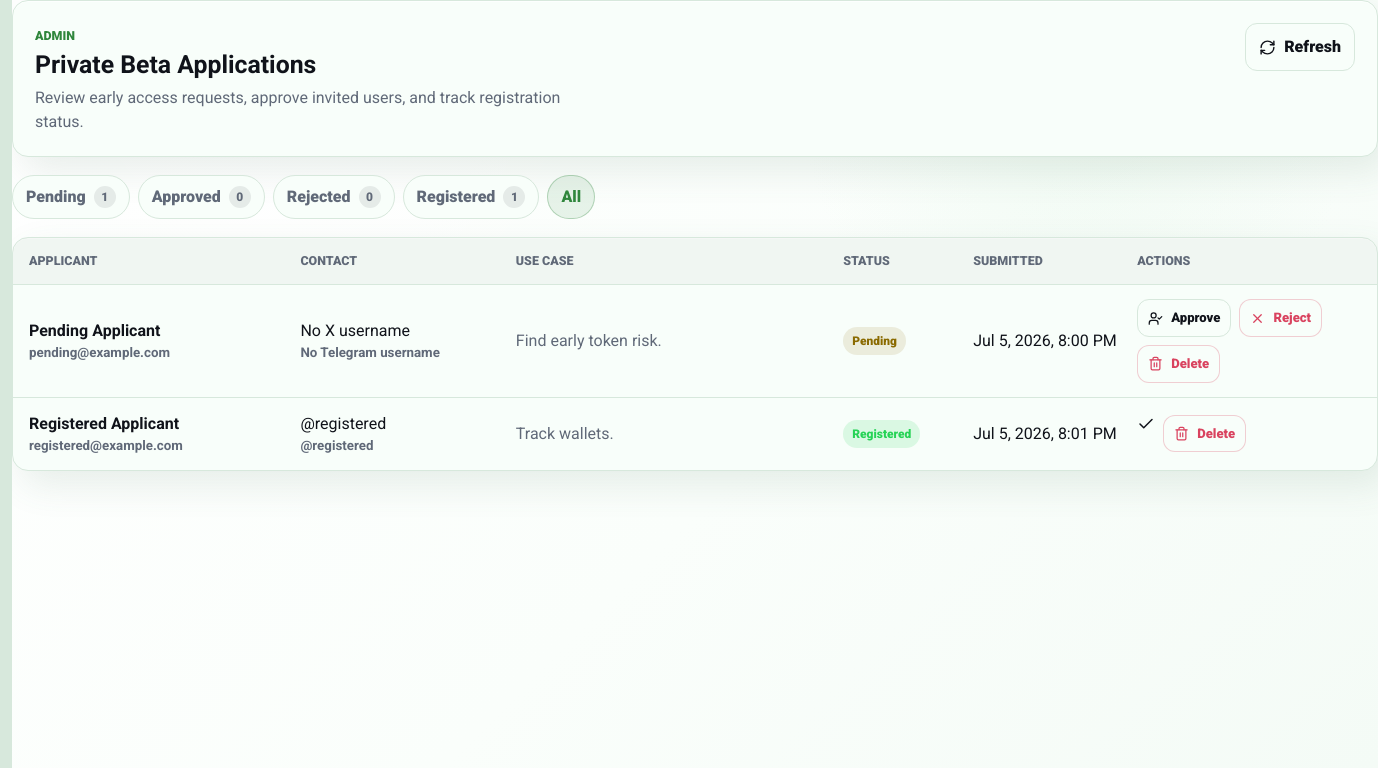
Test: BetaApplicationsAdminPage › lets admins delete an application after confirmation
Check: the text "Pending Applicant" is shown, box [29,321,160,340]
What coordinates should you click on to do the following:
click the button "Delete" next to "Jul 5, 2026, 8:00 PM"
I would click on:
 (1179, 364)
Its box is [1137,345,1220,383].
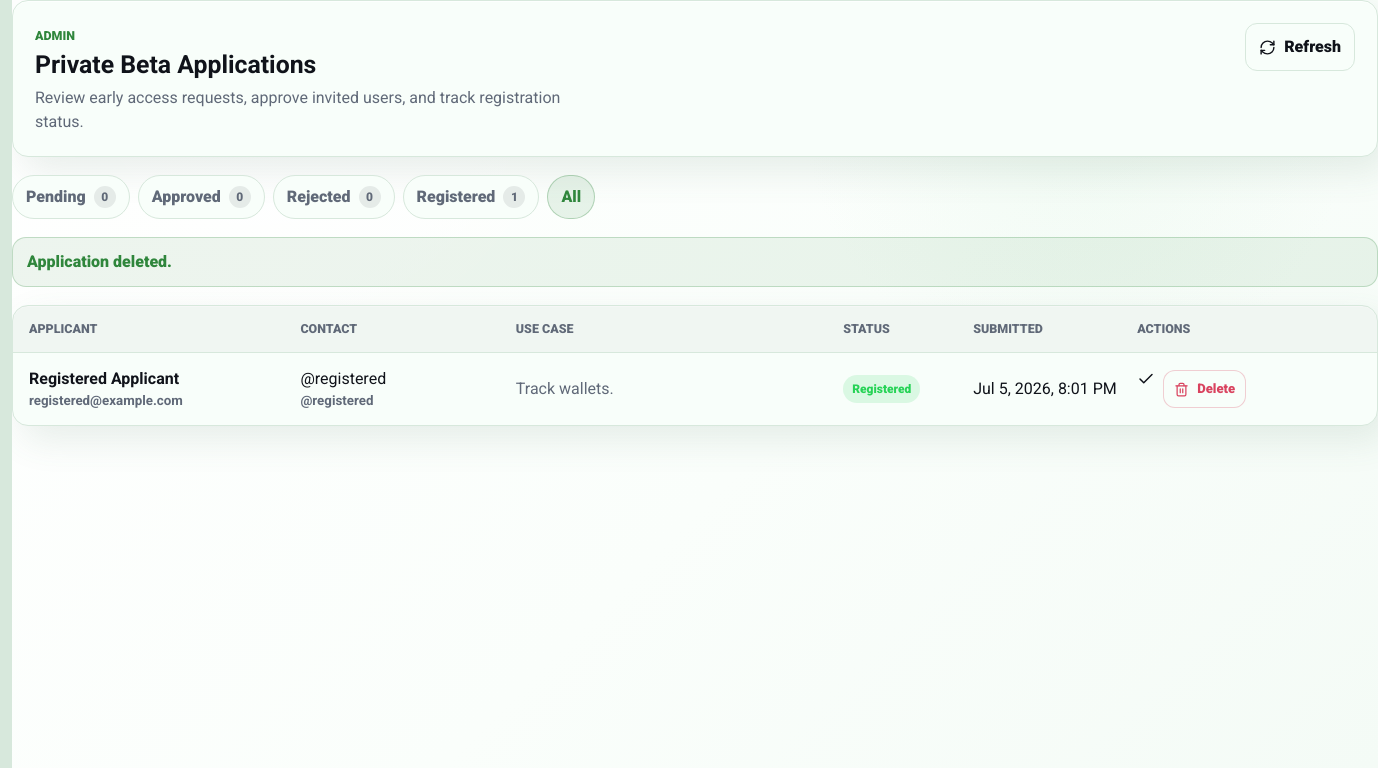
Check: the text "Application deleted." is shown, box [27,250,172,274]
Check: the text "Pending Applicant" is gone
